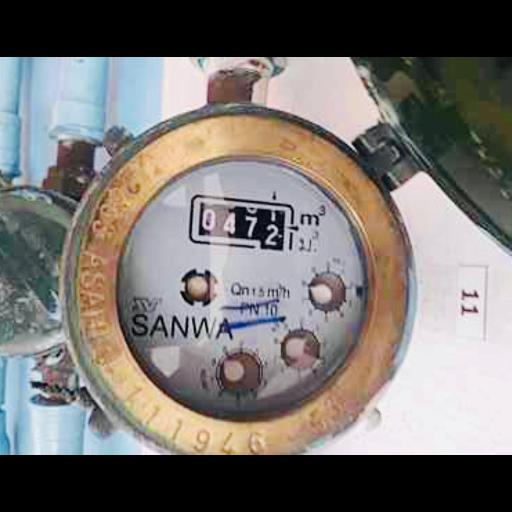0: (198, 203, 222, 237)
2: (261, 209, 286, 251)
4: (219, 204, 242, 238)
7: (239, 206, 263, 240)
border_water_meter_number: (187, 194, 296, 252)
